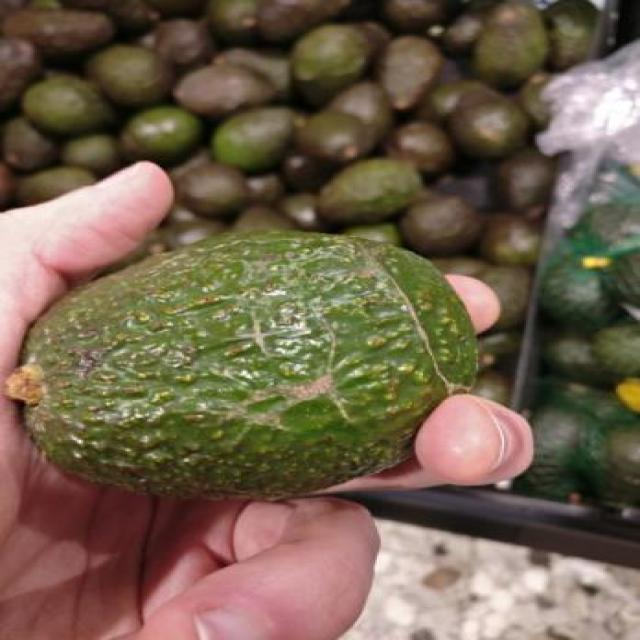Avocado: (8, 222, 508, 501)
